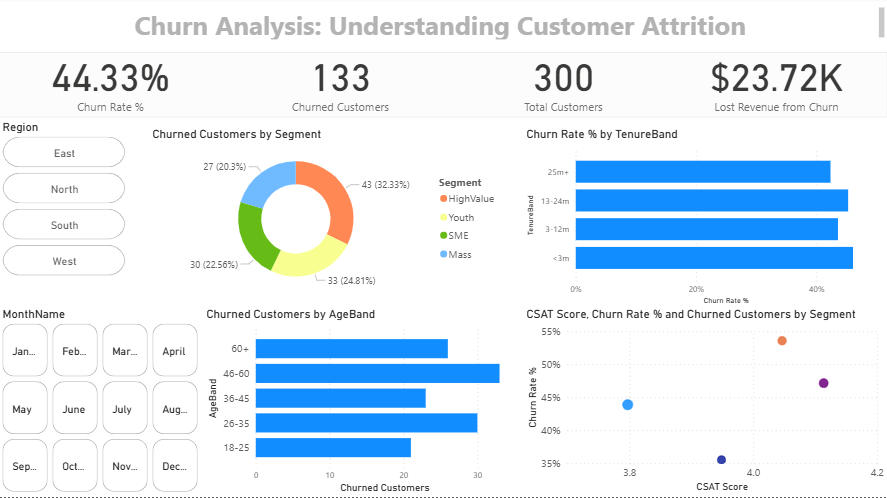

This screenshot's page, from the dashboard's own definition file:
{"tool":"powerbi","page":{"name":"Page 2","canvas":[1280,720],"ordinal":1},"visuals":[{"type":"clusteredBarChart","fields":{"Category":["DimCustomer.TenureBand"],"Y":["_Measures.Churn Rate %"]},"box":[754.4,186.8,526.5,260.3],"z":0},{"type":"clusteredBarChart","fields":{"Y":["_Measures.Churned Customers"],"Category":["DimCustomer.AgeBand"]},"box":[294.1,447.1,460.3,273.5],"z":1000},{"type":"card","fields":{"Values":["_Measures.Churn Rate %"]},"box":[0,66.2,321.1,106.6],"z":2000},{"type":"card","fields":{"Values":["_Measures.Churned Customers"]},"box":[331.2,66.2,321.1,106.6],"z":3000},{"type":"card","fields":{"Values":["_Measures.Total Customers"]},"box":[652.3,66.2,321.1,106.6],"z":4000},{"type":"card","fields":{"Values":["_Measures.Lost Revenue from Churn"]},"box":[959,66.2,321.1,106.6],"z":5000},{"type":"donutChart","fields":{"Y":["_Measures.Churned Customers"],"Category":["DimCustomer.Segment"]},"box":[216.2,186.8,511.8,245.6],"z":6000},{"type":"scatterChart","fields":{"Category":["DimCustomer.Segment"],"X":["_Measures.CSAT Score"],"Y":["_Measures.Churn Rate %"],"Size":["_Measures.Churned Customers"]},"box":[754.4,447.1,525,272.1],"z":7000},{"type":"textbox","box":[0,10,1280.2,56.2],"z":8000},{"type":"advancedSlicerVisual","fields":{"Values":["DimCustomer.Region"]},"box":[0,177.7,187.5,229.9],"z":9000},{"type":"advancedSlicerVisual","fields":{"Values":["DimDate.MonthName"]},"box":[0,447.1,294.1,273.5],"z":10000},{"type":"shape","box":[0,79.4,1279.4,94.1],"z":11000}]}

Visuals, with their boxes in screenshot pixels (x1, y1, x2, y2), scaled from the page's 1280x720 canvas onto the 887x498 screenshot:
clusteredBarChart - DimCustomer.TenureBand x _Measures.Churn Rate %: [523,129,886,309]
clusteredBarChart - _Measures.Churned Customers x DimCustomer.AgeBand: [204,309,523,497]
card - _Measures.Churn Rate %: [0,46,223,120]
card - _Measures.Churned Customers: [230,46,452,120]
card - _Measures.Total Customers: [452,46,675,120]
card - _Measures.Lost Revenue from Churn: [665,46,886,120]
donutChart - _Measures.Churned Customers x DimCustomer.Segment: [150,129,504,299]
scatterChart - DimCustomer.Segment x _Measures.CSAT Score: [523,309,886,497]
textbox: [0,7,886,46]
advancedSlicerVisual - DimCustomer.Region: [0,123,130,282]
advancedSlicerVisual - DimDate.MonthName: [0,309,204,497]
shape: [0,55,886,120]
